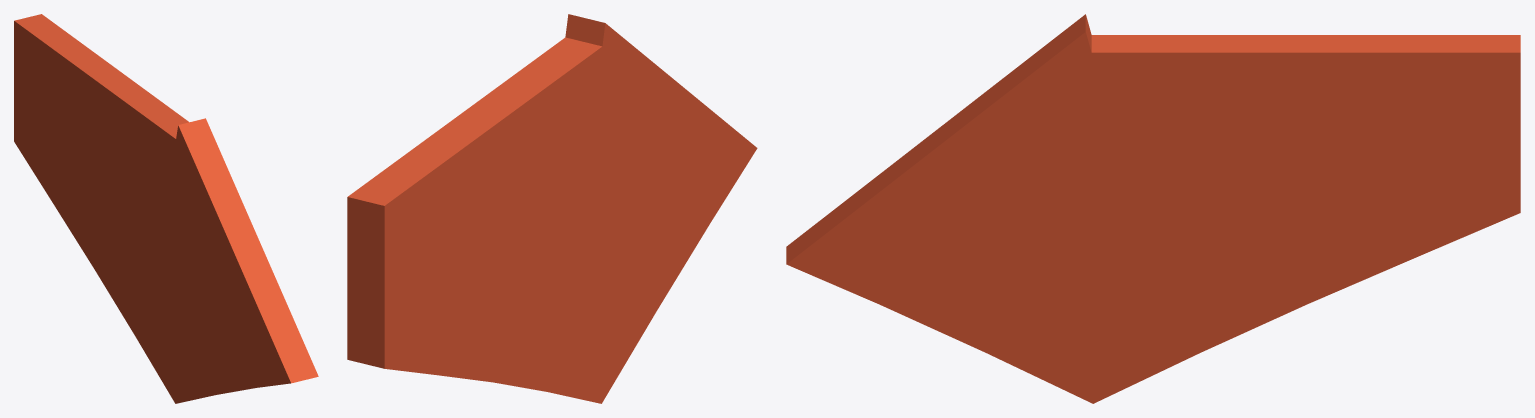
File: mask3.fbx
3 views of the same model, side by side, from view 1: azimuth 30°, elevation 25°; view 2: azimuth 150°, elevation 25°; view 3: azimuth 270°, elevation 25° (orthographic). The views are drawn at different scales.
Parts seen in each view (by area): view 1: Cube; view 2: Cube; view 3: Cube.
Boxes of the visible parts, x1,y1,x2,y2 form: Cube: [14, 14, 318, 403]; Cube: [347, 14, 757, 403]; Cube: [786, 14, 1520, 403].
Size of the model in its own units: 9.87 by 96.09 by 172.
